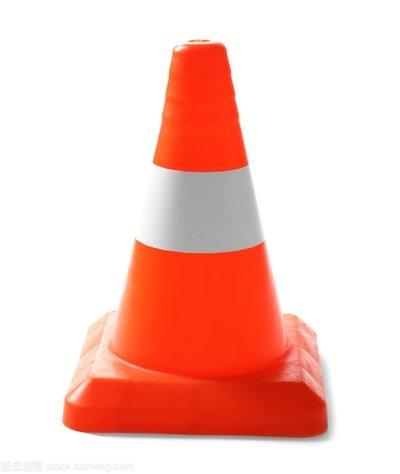cone_barrel: (88, 36, 312, 417)
